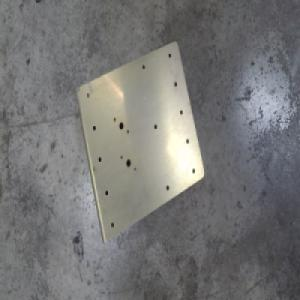MetalSheet: (74, 36, 206, 245)
